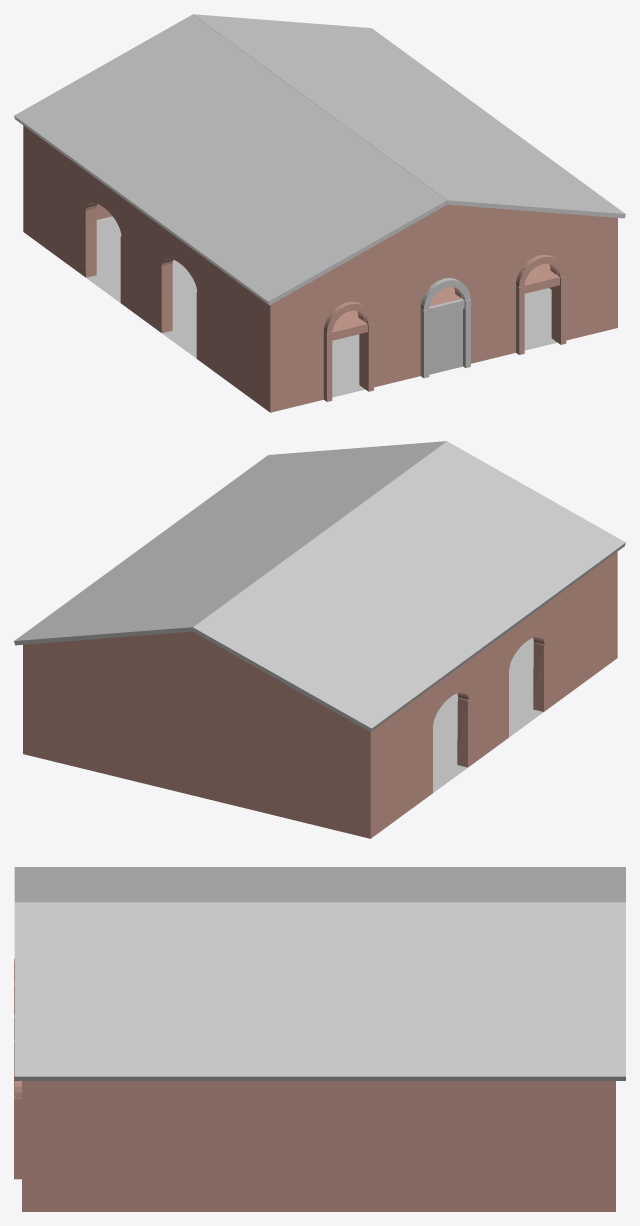
File: iphan_v5.obj
The picture shows the model from 3 angles, top to bottom: view 1: azimuth 30°, elevation 25°; view 2: azimuth 150°, elevation 25°; view 3: azimuth 270°, elevation 25°; orthographic projection. The views are drawn at different scales.
Parts seen in each view (by area): view 1: Ceiling, Room, Floor, Door_Frame.002, Door_Frame.003, Door_Frame.001, Door.001, Door.002; view 2: Ceiling, Room, Floor; view 3: Ceiling, Room, Door_Frame.003.
Boxes of the visible parts, x1,y1,x2,y2 form: Ceiling: (14, 14, 625, 305); Room: (23, 125, 617, 412); Floor: (86, 216, 556, 397); Door_Frame.002: (323, 301, 373, 401); Door_Frame.003: (516, 254, 566, 354); Door_Frame.001: (420, 278, 470, 378); Door.001: (445, 309, 462, 370); Door.002: (429, 313, 444, 374); Ceiling: (14, 441, 625, 732); Room: (23, 552, 617, 838); Floor: (433, 638, 543, 792); Ceiling: (14, 867, 625, 1080); Room: (22, 1081, 615, 1211); Door_Frame.003: (14, 1071, 21, 1179).
Bounding box in the file's own units: 13.38 × 6.16 × 16.48.
